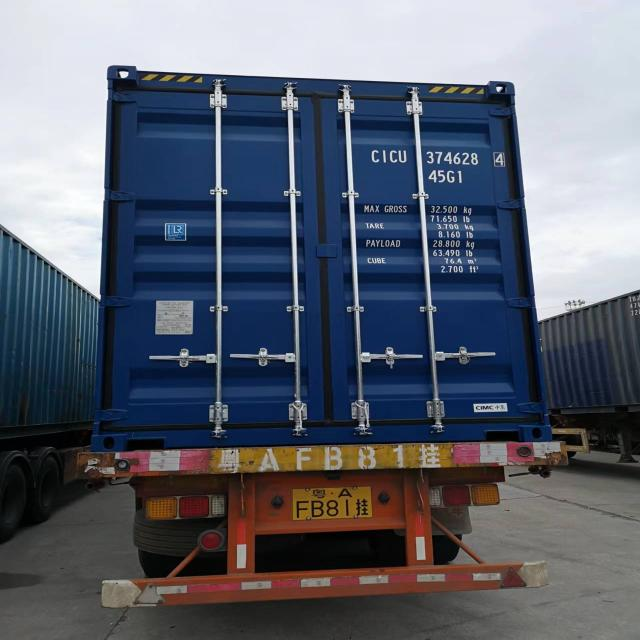seal: (383, 343, 397, 371)
